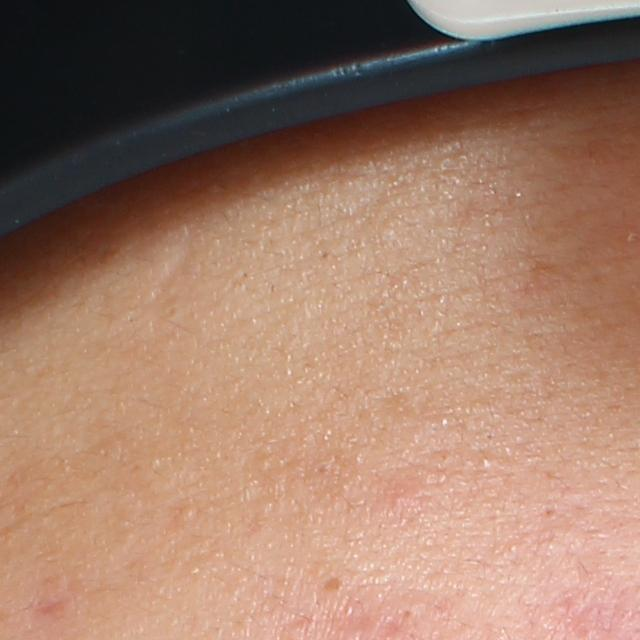comedo: (319, 570, 348, 601), (179, 505, 198, 525)
